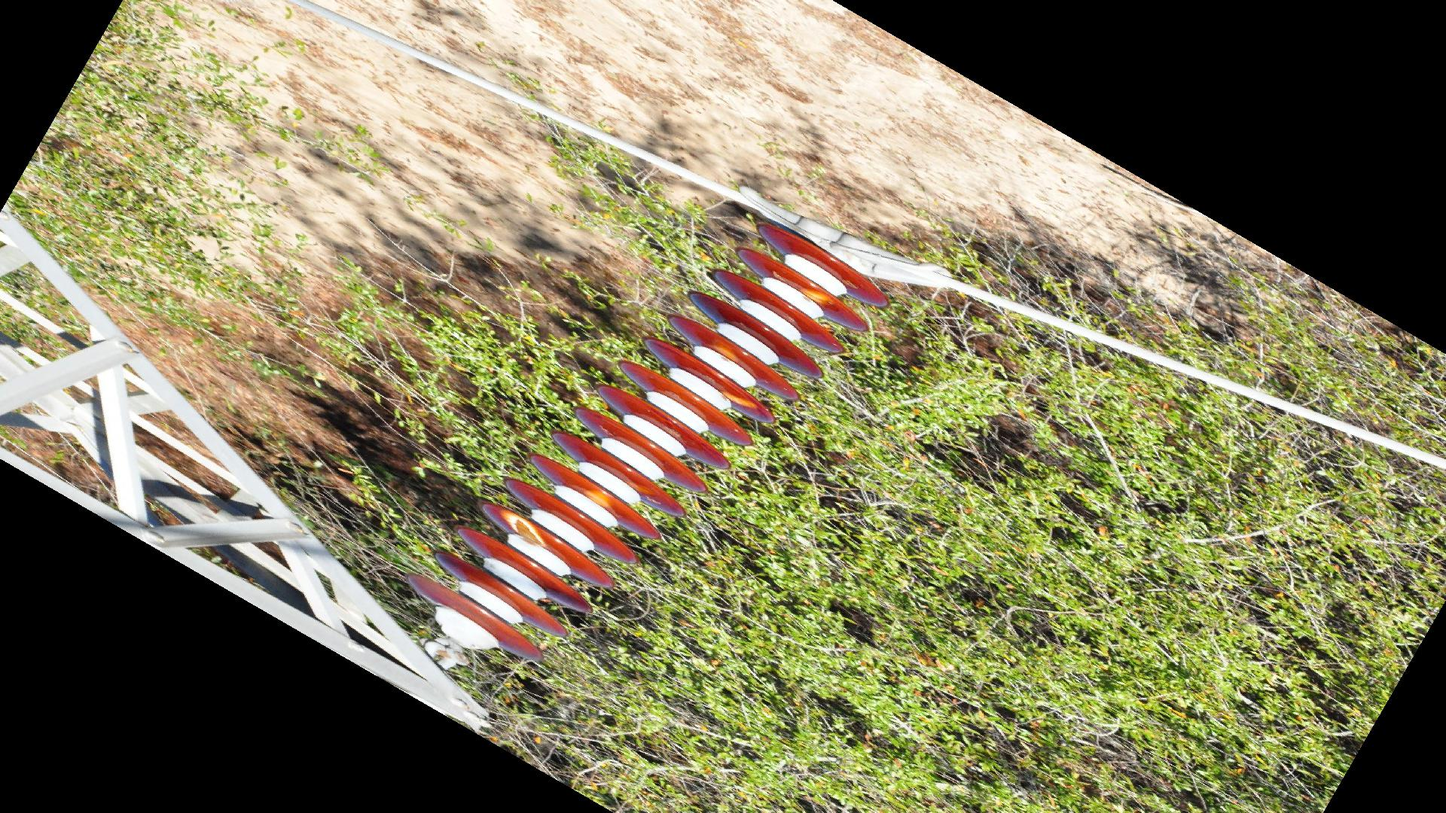insulator: (401, 218, 891, 666)
insulator_flashover: (499, 509, 545, 548), (721, 390, 761, 411), (798, 285, 835, 306)
